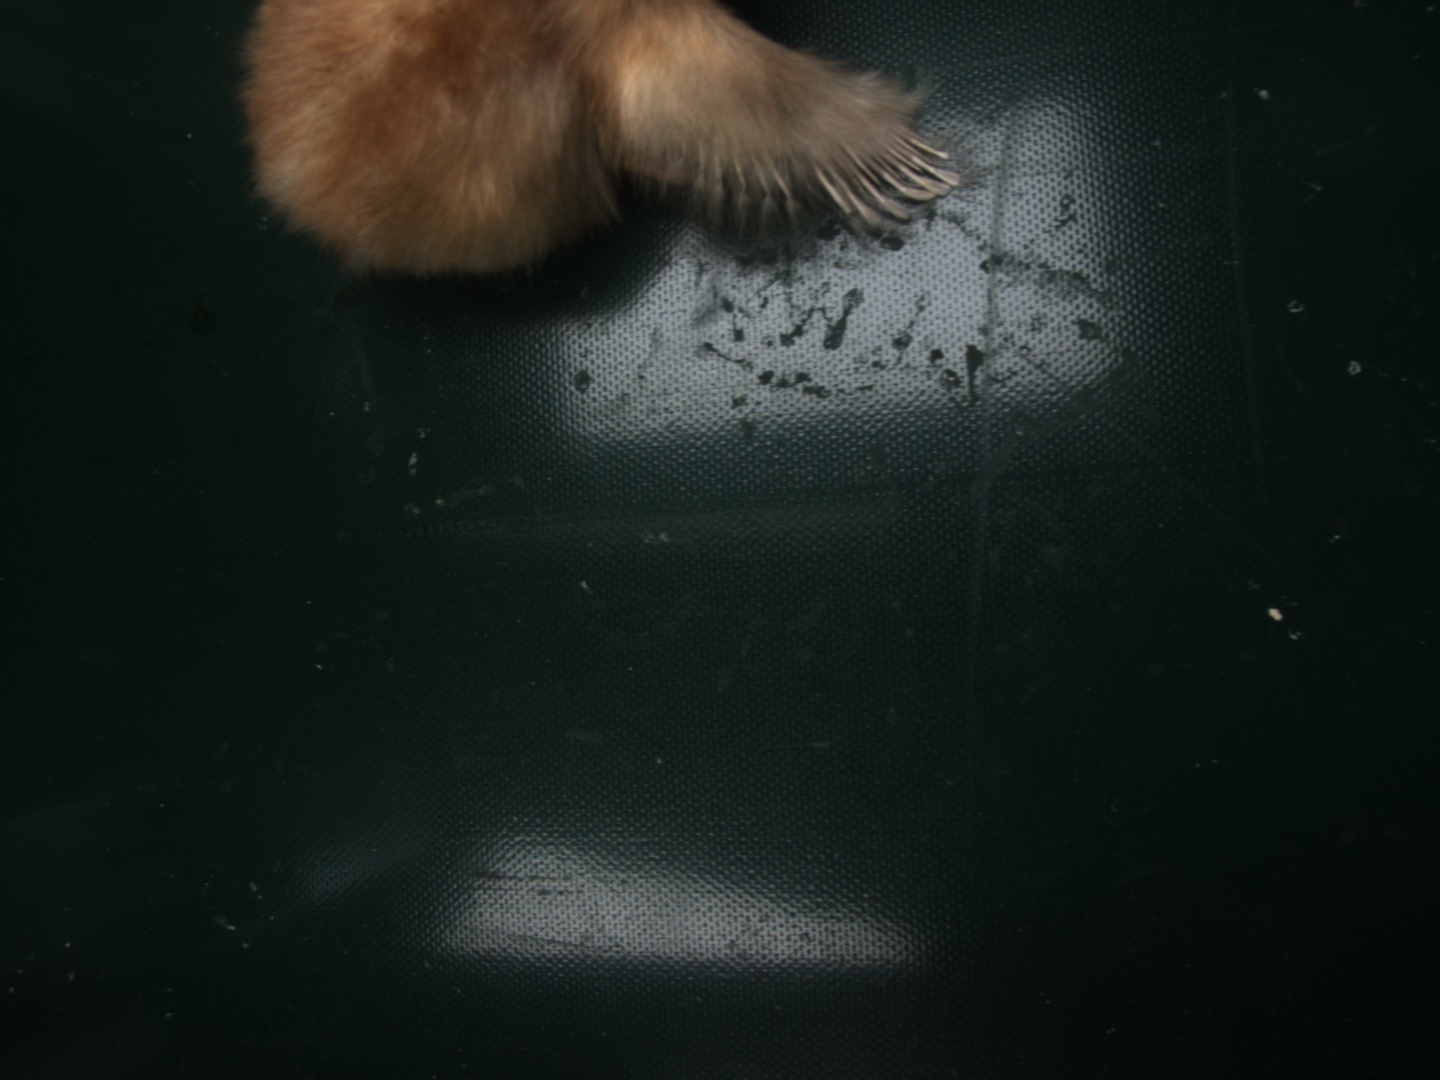female: (811, 130, 962, 220)
